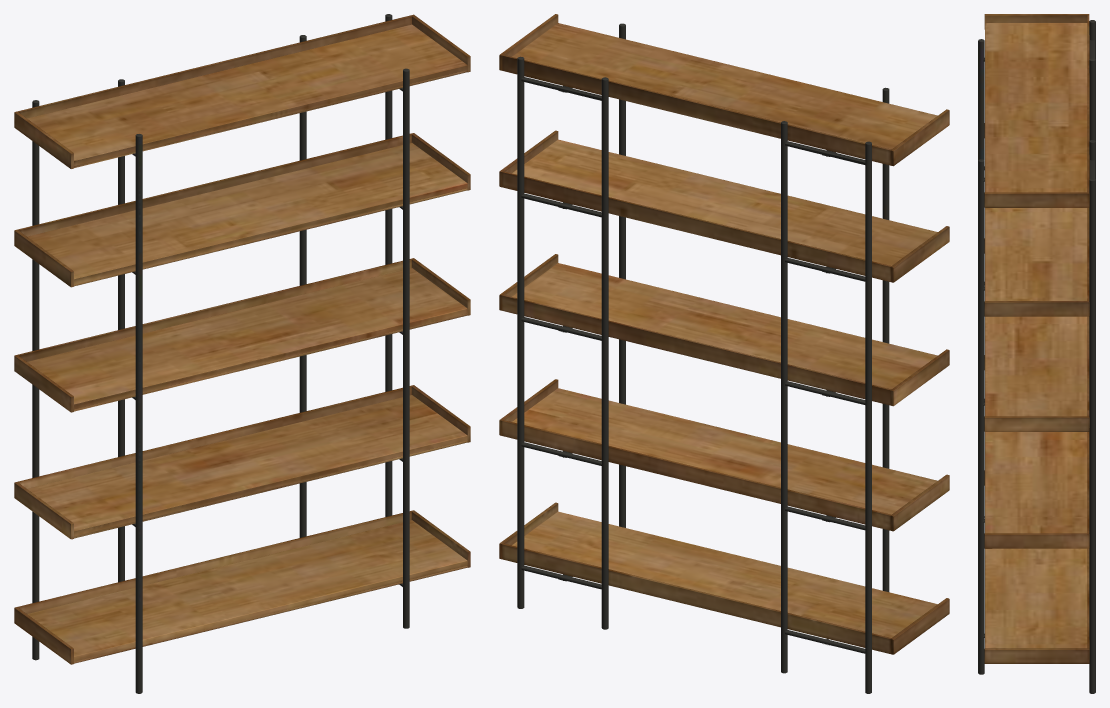
3 views of the same model, side by side, from view 1: azimuth 30°, elevation 25°; view 2: azimuth 150°, elevation 25°; view 3: azimuth 270°, elevation 25° (orthographic). The views are drawn at different scales.
Visible parts, largest first — view 1: visual_RootNode; view 2: visual_RootNode; view 3: visual_RootNode.
Boxes of the visible parts, x1,y1,x2,y2 form: visual_RootNode: [14, 14, 470, 693]; visual_RootNode: [499, 14, 949, 693]; visual_RootNode: [978, 14, 1095, 693].
Size of the model in its own units: 1.37 by 0.3795 by 1.83.
1 material, 1 textured.
